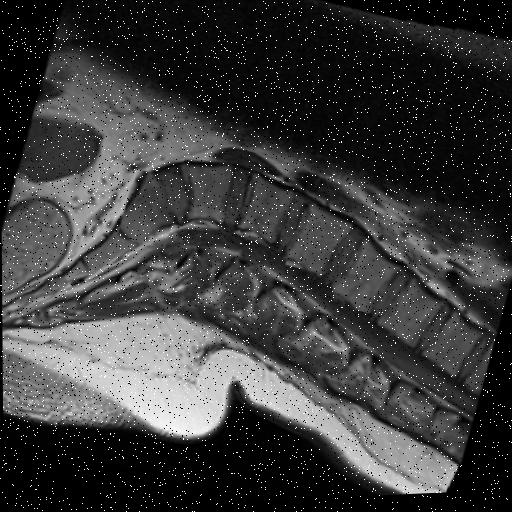L1: (376, 277, 443, 351)
L2: (330, 242, 397, 316)
L3: (285, 208, 349, 276)
L4: (239, 179, 292, 245)
L5: (179, 168, 228, 224)
S1: (117, 172, 170, 244)
